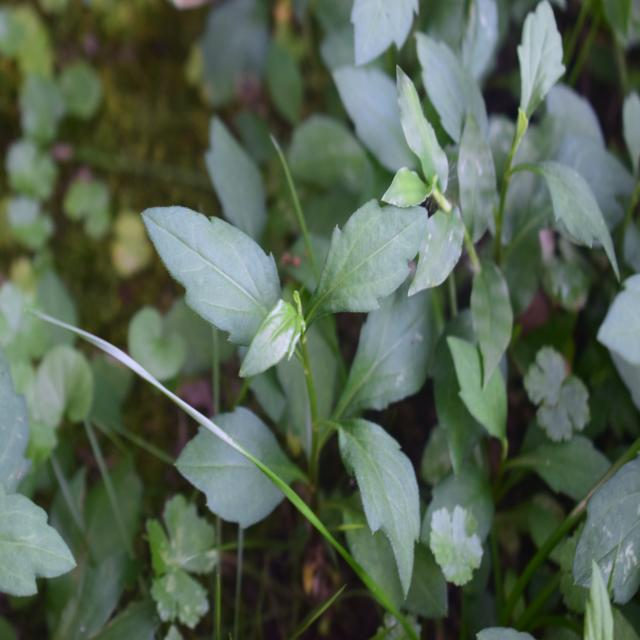Indian aster: (154, 190, 447, 574)
